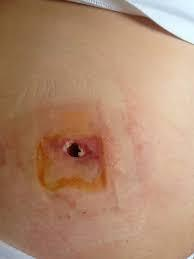Spider: (38, 126, 106, 193)
